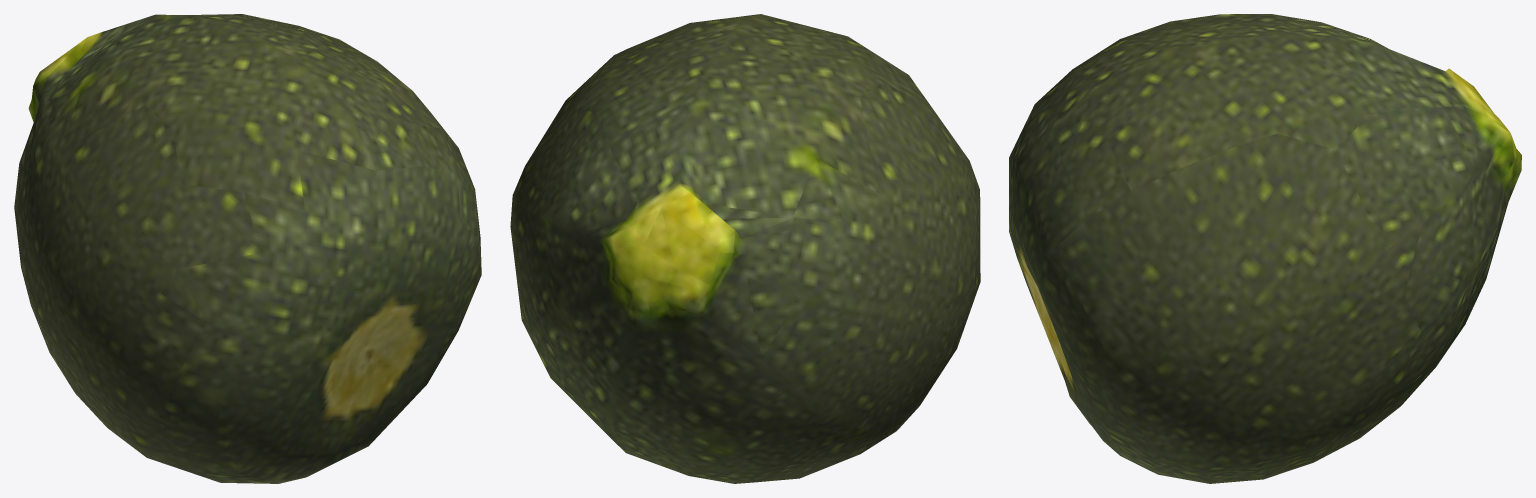
Rendered from SM_配餐室_水果蔬菜_24.fbx.
The picture shows the model from 3 angles, left to right: view 1: azimuth 30°, elevation 25°; view 2: azimuth 150°, elevation 25°; view 3: azimuth 270°, elevation 25°; orthographic projection. The views are drawn at different scales.
Visible parts, largest first — view 1: SM_配餐室_水果蔬菜_24; view 2: SM_配餐室_水果蔬菜_24; view 3: SM_配餐室_水果蔬菜_24.
Part boxes in pixels (x1,y1,x2,y2): SM_配餐室_水果蔬菜_24: (14,14,481,483); SM_配餐室_水果蔬菜_24: (510,14,980,483); SM_配餐室_水果蔬菜_24: (1009,14,1521,483).
Size of the model in its own units: 109 by 111 by 120.
